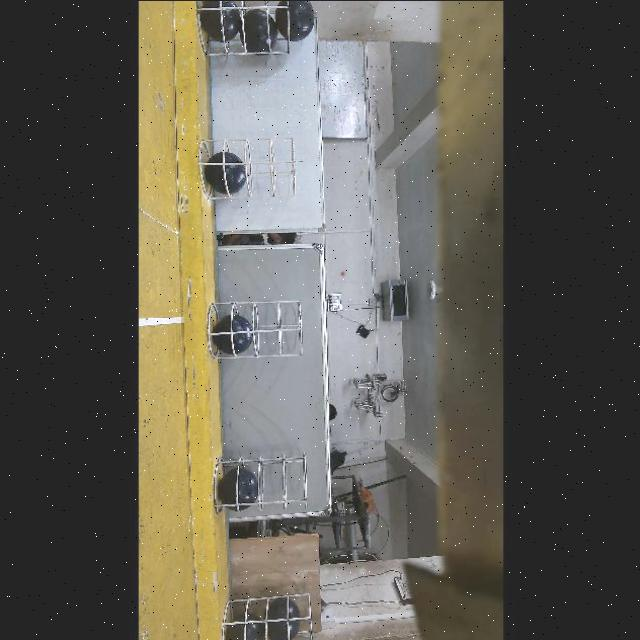P: (205, 150, 246, 194), (218, 466, 258, 511), (239, 8, 278, 54), (201, 0, 241, 42), (275, 0, 315, 41), (213, 313, 253, 354), (267, 597, 301, 640), (227, 611, 264, 640)
S: (208, 448, 310, 524), (202, 136, 290, 204), (206, 300, 302, 362), (202, 0, 296, 56), (222, 592, 314, 640)
